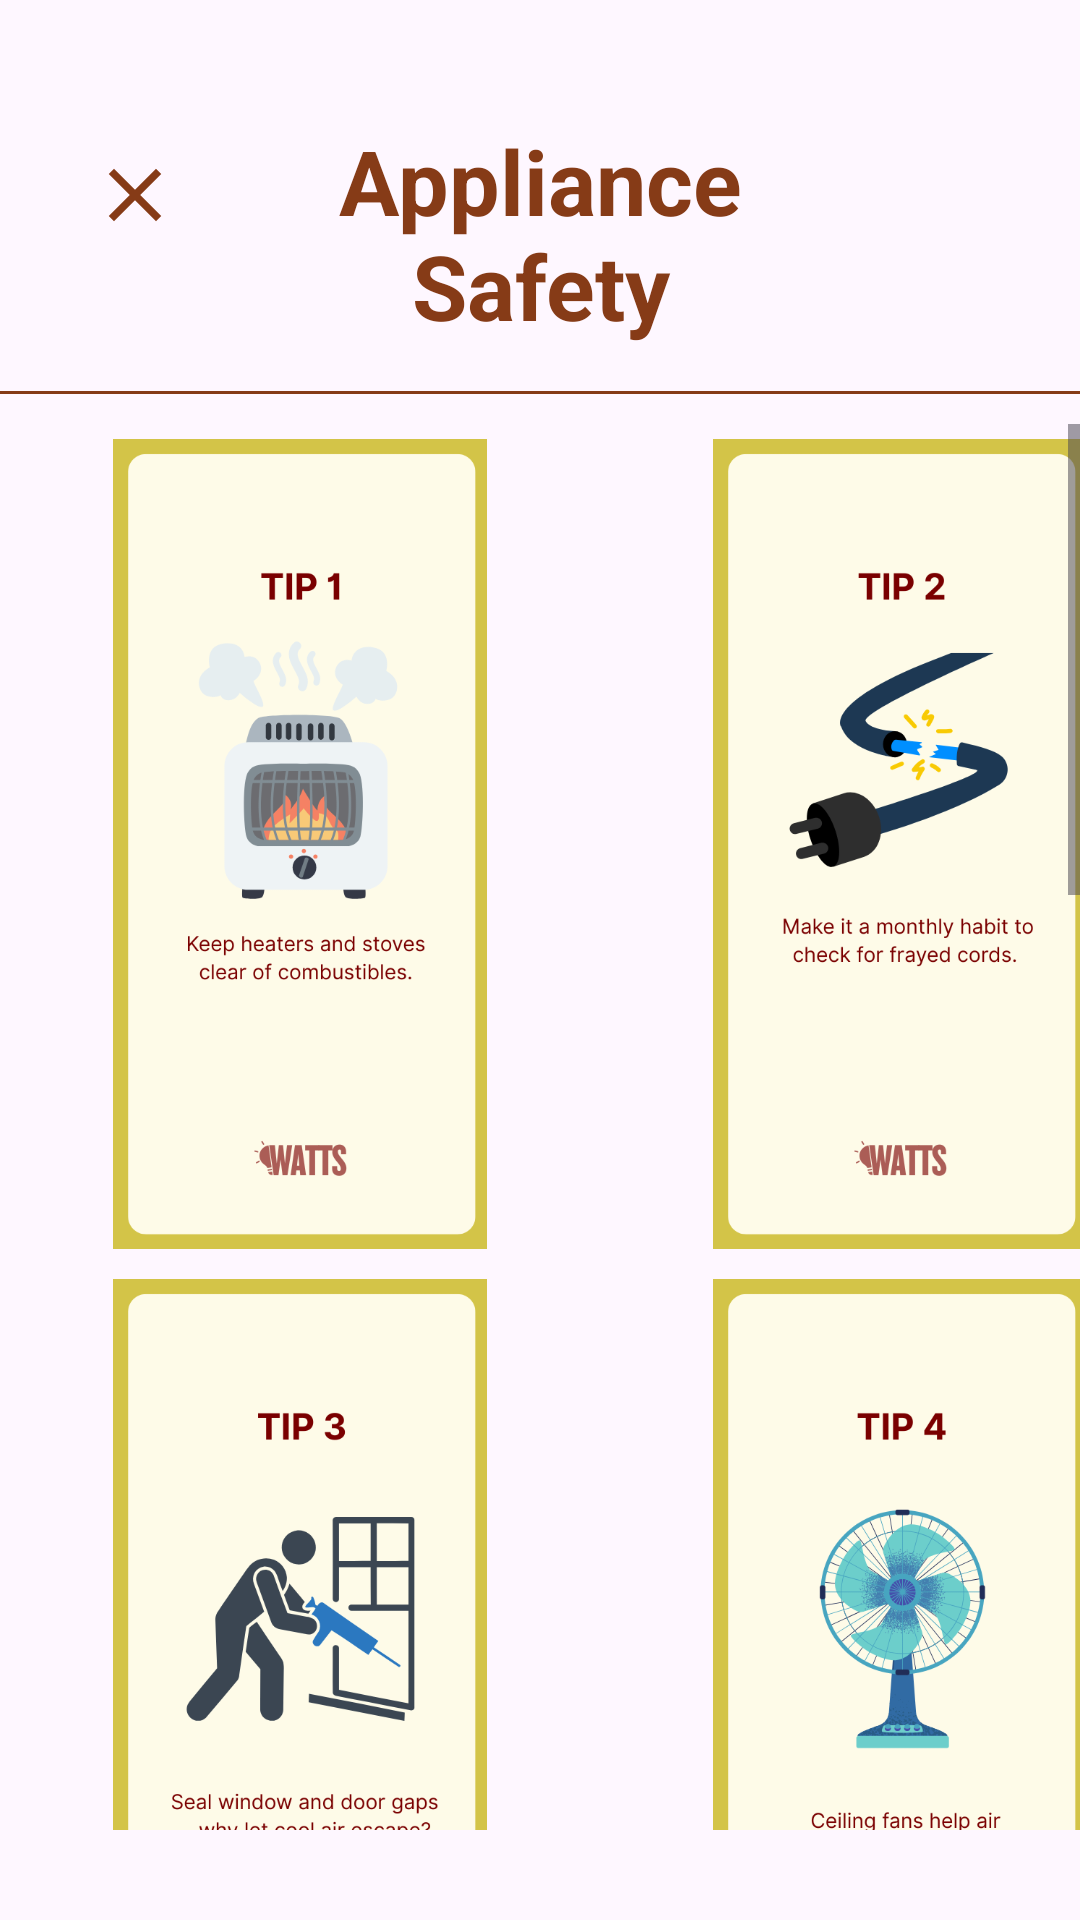

Screen size 1080x1920. Icon name, then its box in pixels as {"left": x1, "top": y1, "right": x2, "bottom": y2}:
close: {"left": 109, "top": 169, "right": 161, "bottom": 221}
